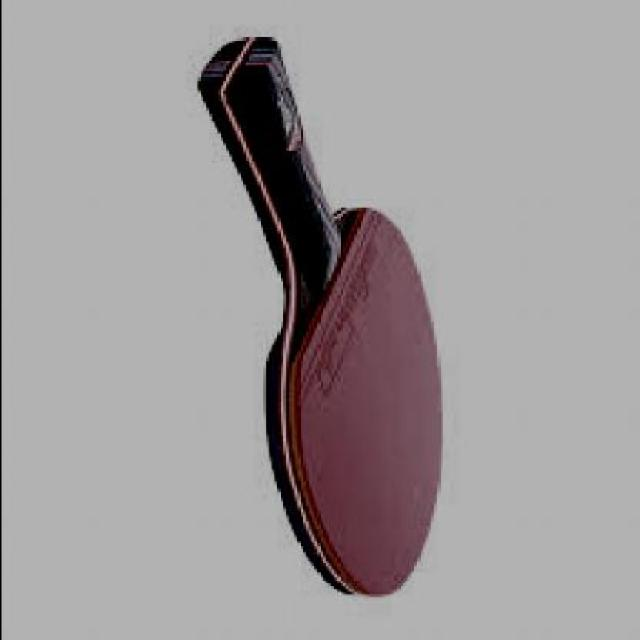table_tennis_racket: (252, 203, 446, 600)
